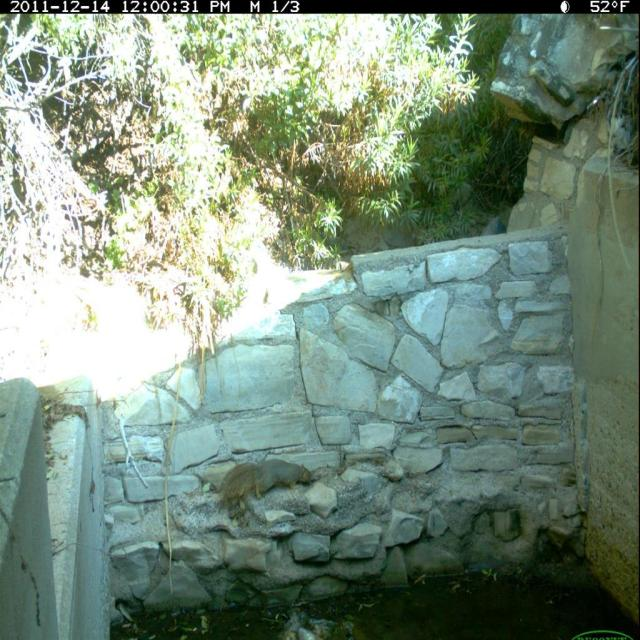squirrel: (213, 438, 328, 519)
